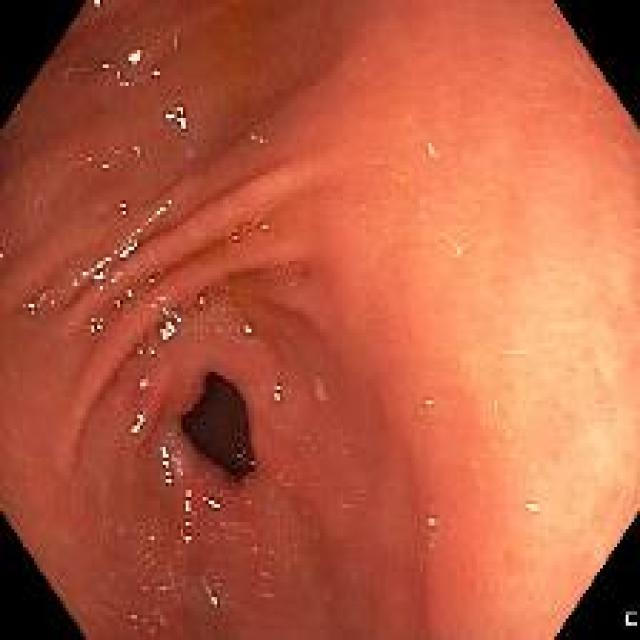bubbles: (184, 284, 254, 340), (18, 287, 56, 321), (241, 216, 282, 245), (265, 260, 306, 284), (199, 577, 221, 609), (140, 264, 164, 293), (234, 446, 257, 473), (229, 224, 243, 251), (425, 539, 442, 555), (145, 530, 159, 549), (130, 141, 143, 160)
contrast: (176, 369, 253, 481)
specularity: (67, 197, 177, 285), (98, 43, 157, 90), (155, 89, 193, 142), (158, 291, 182, 344), (432, 226, 464, 264), (176, 486, 194, 546), (158, 441, 176, 494), (109, 286, 145, 311), (85, 316, 113, 345), (201, 575, 221, 608), (455, 141, 476, 170), (117, 192, 136, 220), (419, 134, 441, 156), (133, 338, 157, 357), (270, 379, 285, 407), (99, 145, 111, 176), (142, 526, 158, 549), (131, 406, 145, 431), (523, 498, 539, 519), (199, 493, 222, 506), (131, 141, 146, 160), (135, 367, 150, 384), (426, 515, 437, 529), (93, 0, 104, 11), (241, 324, 252, 335), (158, 616, 166, 630), (157, 583, 166, 594), (196, 295, 204, 307), (425, 397, 433, 408), (130, 613, 138, 622), (26, 300, 33, 308)
